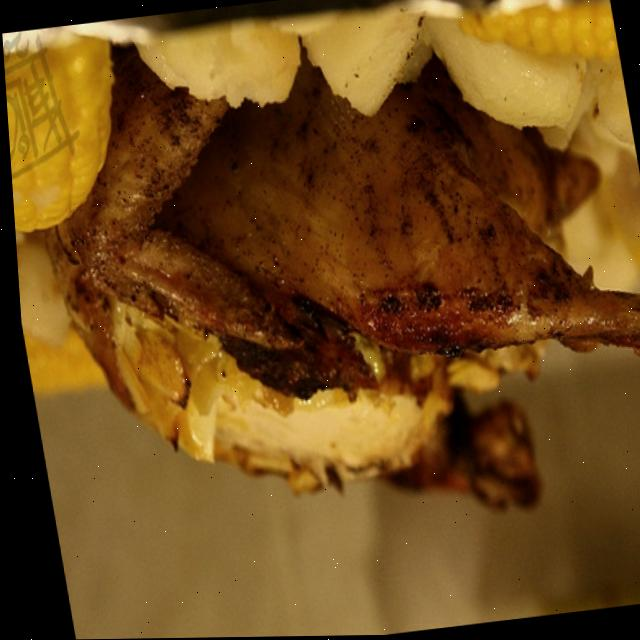鸡肉料理 含炸鸡: (1, 18, 640, 631)
